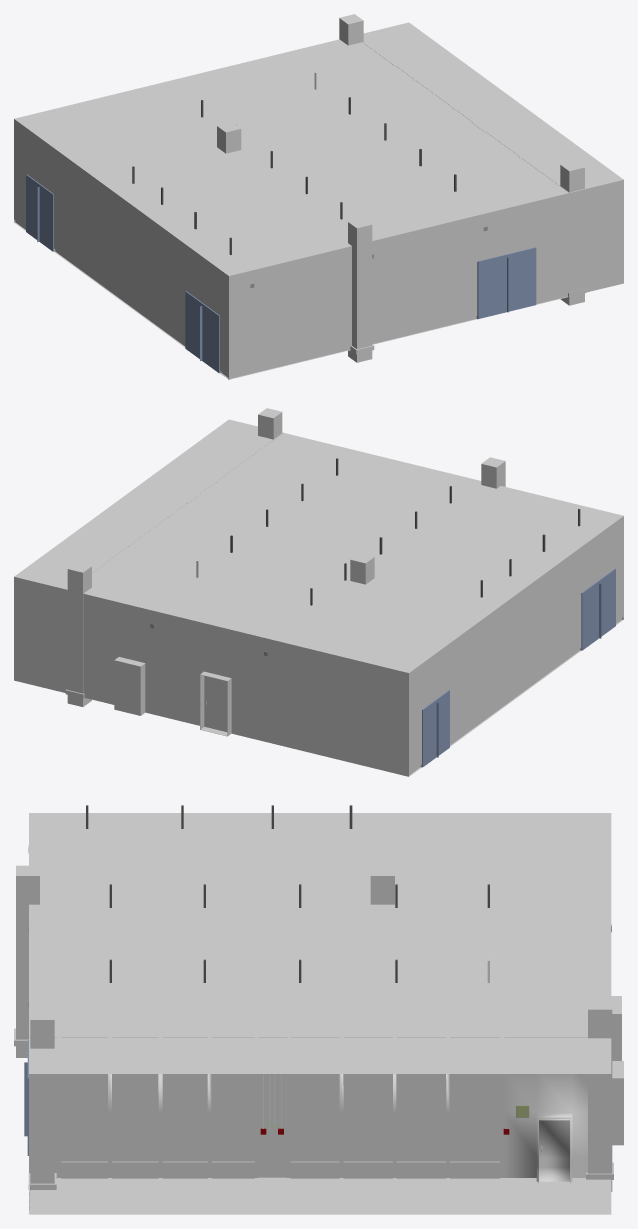
3 views of the same model, one above another, from view 1: azimuth 30°, elevation 25°; view 2: azimuth 150°, elevation 25°; view 3: azimuth 270°, elevation 25° (orthographic). The views are drawn at different scales.
Parts seen in each view (by area): view 1: salle, porte.002, piliermur, porte.006, porte.007, piliermur.001, piliermur.002, pilier; view 2: salle, piliermur.002, porte.006, porte.007, piliermur, pilier, piliermur.001; view 3: salle, murentré, piliermur.001, piliermur.002, piliermur, pilier.
Boxes of the visible parts, <box> form: salle: <box>14,22,623,379</box>; porte.002: <box>477,247,536,319</box>; piliermur: <box>348,218,374,362</box>; porte.006: <box>185,291,220,372</box>; porte.007: <box>26,174,53,251</box>; piliermur.001: <box>560,161,586,305</box>; piliermur.002: <box>339,14,363,45</box>; pilier: <box>217,122,241,153</box>; salle: <box>14,419,623,776</box>; piliermur.002: <box>65,562,91,706</box>; porte.006: <box>581,568,615,650</box>; porte.007: <box>422,690,449,767</box>; piliermur: <box>481,457,505,488</box>; pilier: <box>350,553,374,584</box>; piliermur.001: <box>258,408,282,439</box>; salle: <box>29,813,623,1214</box>; murentré: <box>29,1037,587,1182</box>; piliermur.001: <box>28,1009,56,1189</box>; piliermur.002: <box>586,999,613,1191</box>; piliermur: <box>14,865,39,1057</box>; pilier: <box>370,865,394,904</box>.
Bounding box in the file's own units: 26.15 × 8.44 × 25.62.
23 materials, 2 textured.
